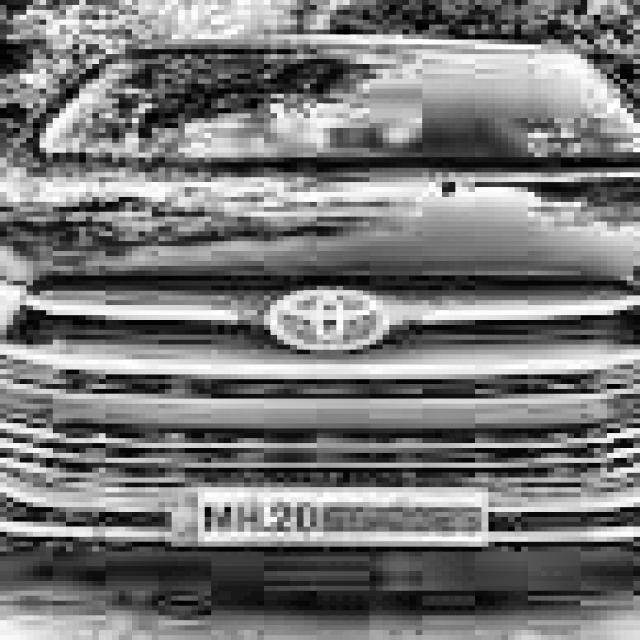light_vehicle: (0, 34, 640, 616)
